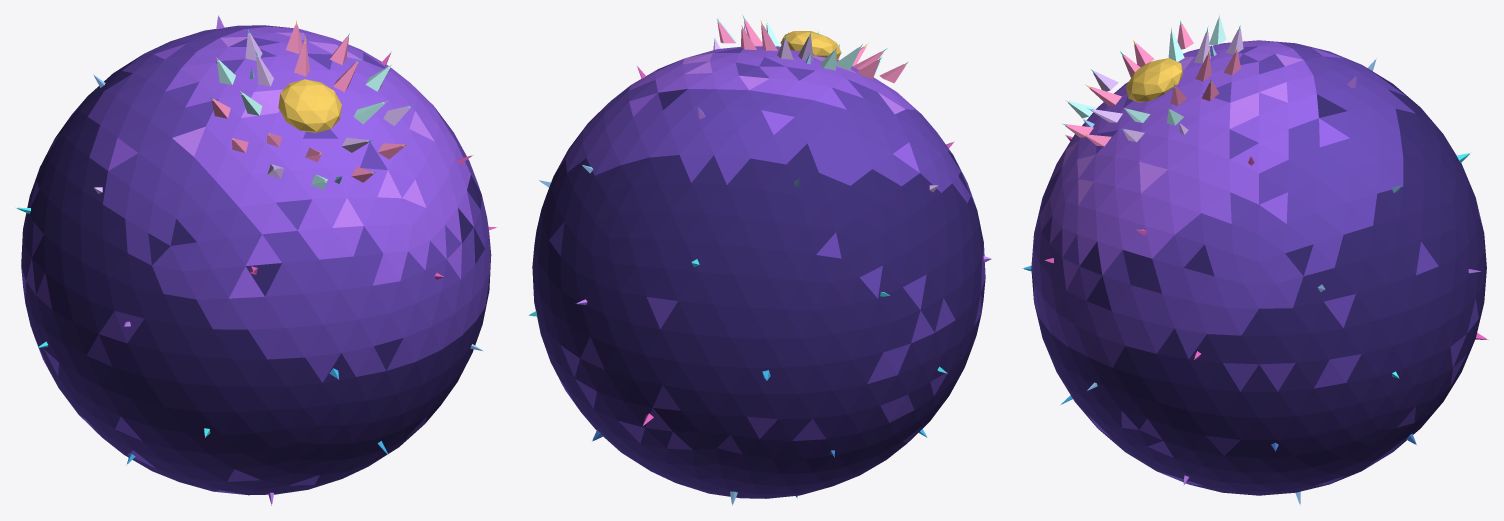
File: Crystal_06.fbx
The picture shows the model from 3 angles, left to right: view 1: azimuth 30°, elevation 25°; view 2: azimuth 150°, elevation 25°; view 3: azimuth 270°, elevation 25°; orthographic projection. The views are drawn at different scales.
Parts seen in each view (by area): view 1: Crystal_06; view 2: Crystal_06; view 3: Crystal_06.
Part boxes in pixels (box(x1,y1,x2,y2)): Crystal_06: box(15, 15, 497, 505); Crystal_06: box(528, 15, 991, 505); Crystal_06: box(1022, 14, 1488, 505).
Size of the model in its own units: 6.14 by 6.46 by 6.17.
Materials: 1 (1 with a texture image).
